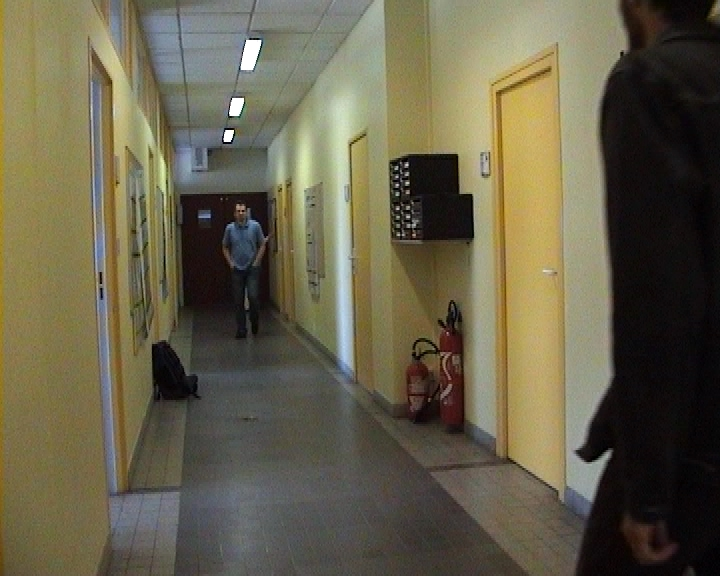leave bag unattended: (131, 315, 218, 425)
